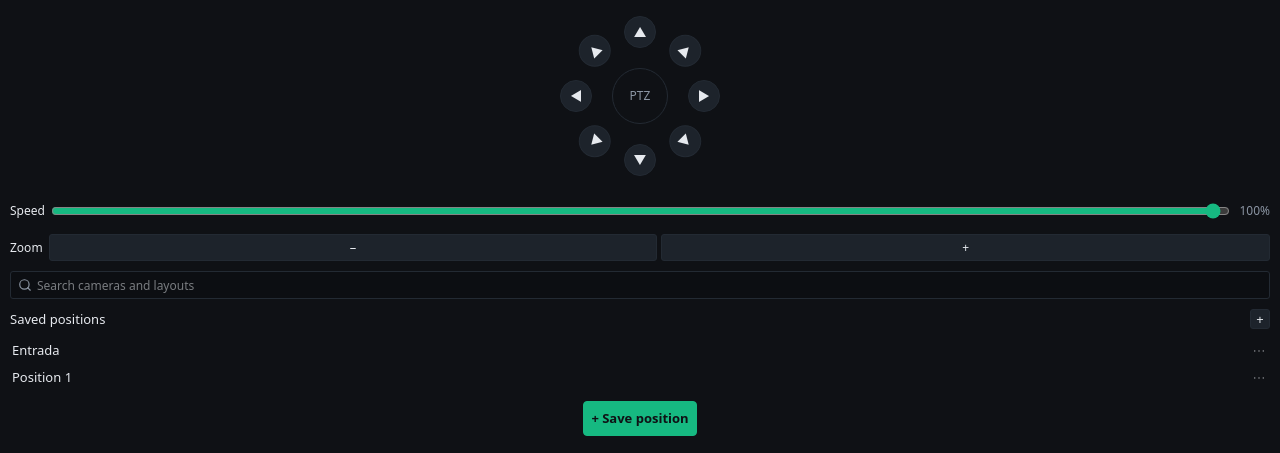
Test: PtzPanel (spec 2026-10-17) › the section filter shows only the positions that match
Type "1" into the field named "Filter saved positions".
click(640, 285); type("1")  # box 10,271 -> 1270,299
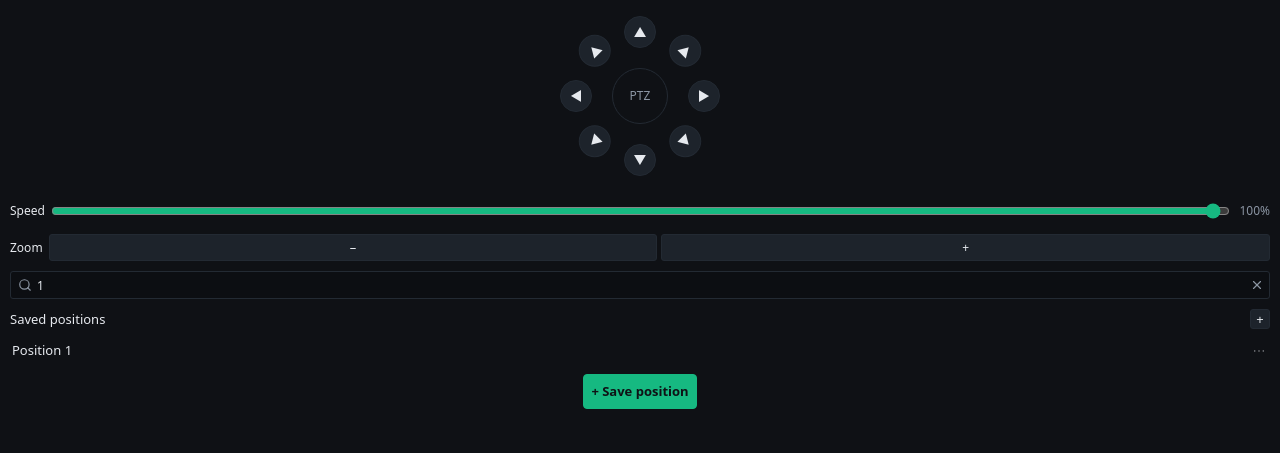
Result: the list items read "Position 1⋯", in this order at 0,337 -> 1279,364
